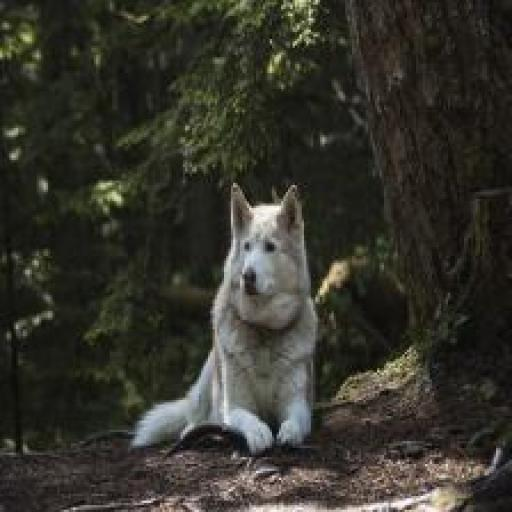wolf: (130, 178, 319, 455)
